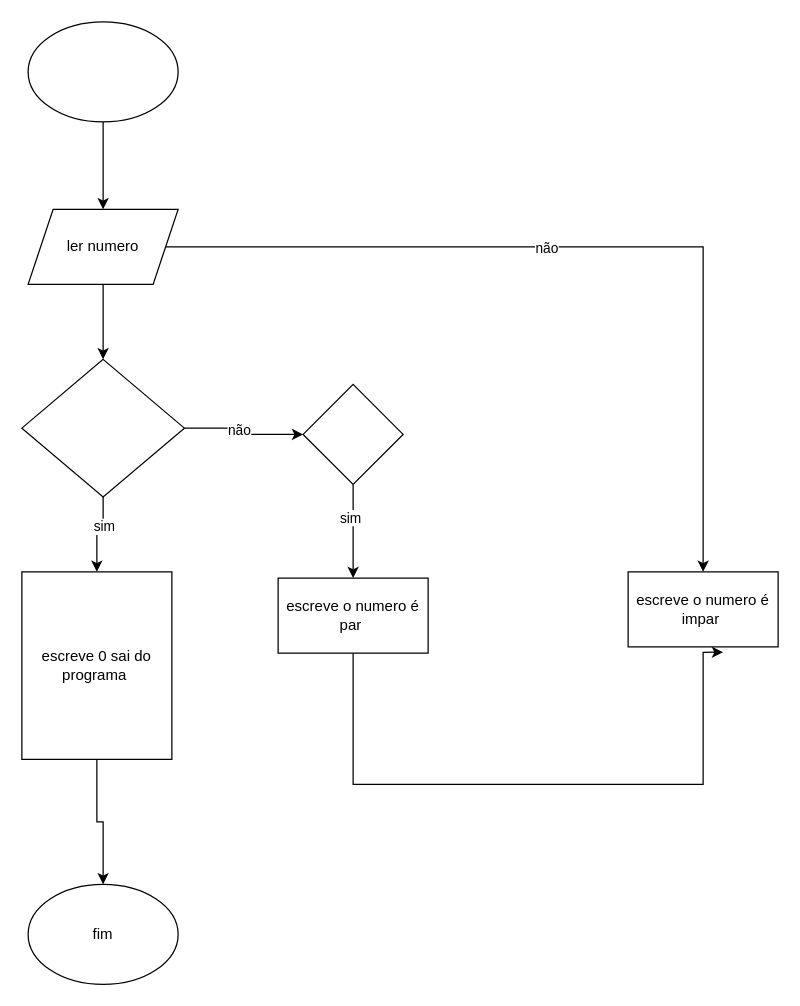
Some shapes in this 800 by 1006 pixel diagram are drawn without their labels. Here are the shapes that lost their labels. From the top down, the box of each, then its label:
(27, 21, 178, 122): inicio
(21, 358, 184, 497): numero = 0
(302, 383, 403, 484): numero % 2 = 0
